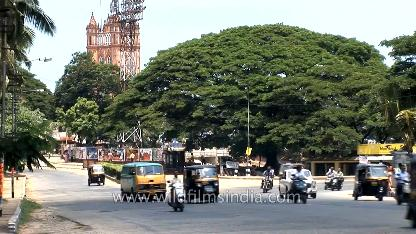auto-rikshaw: (182, 162, 222, 202), (354, 162, 392, 202), (86, 160, 107, 188)
bike: (166, 170, 190, 212), (394, 162, 414, 204), (290, 164, 310, 202), (260, 164, 276, 194), (330, 167, 346, 191), (324, 167, 336, 191)
car: (118, 161, 168, 203), (278, 166, 318, 200)
